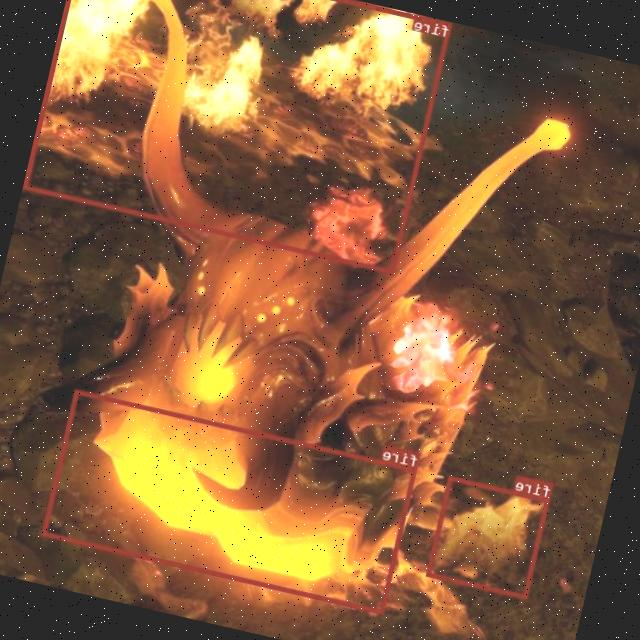fire: (24, 0, 452, 273), (41, 388, 418, 614), (426, 474, 551, 598)
